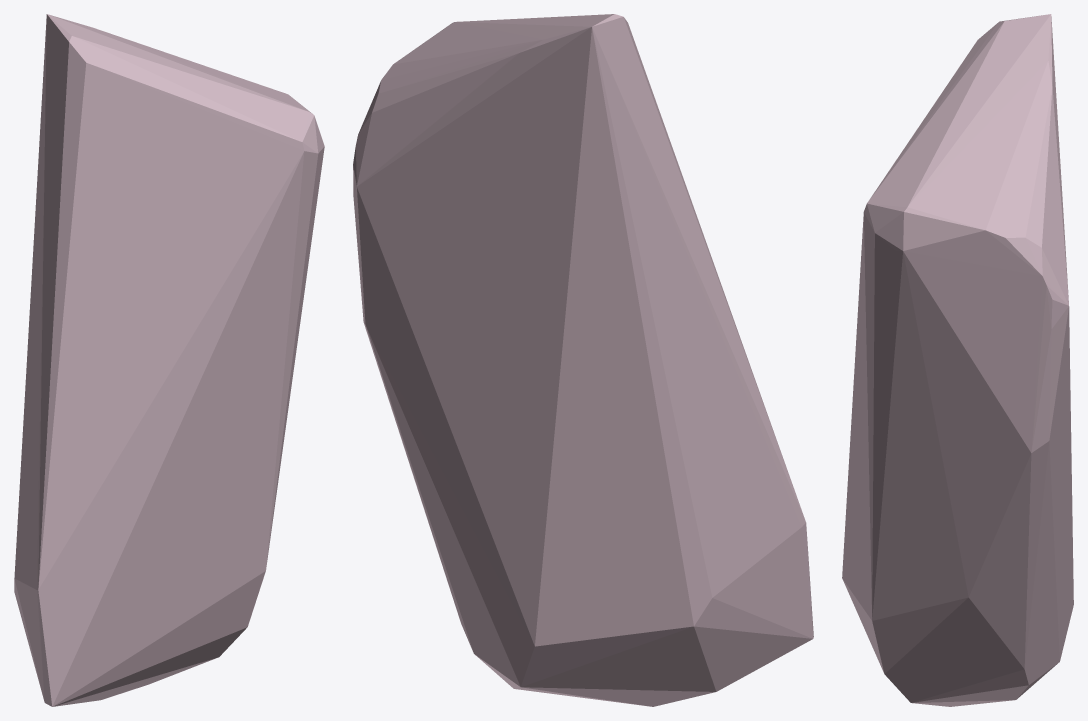
Rendered from exhaustSystem_exhaust_manifold_f01.glb.
3 renders of one model, left to right at view 1: azimuth 30°, elevation 25°; view 2: azimuth 150°, elevation 25°; view 3: azimuth 270°, elevation 25°, orthographic. The views are drawn at different scales.
Parts seen in each view (by area): view 1: geometry_0; view 2: geometry_0; view 3: geometry_0.
Boxes of the visible parts, x1,y1,x2,y2 form: geometry_0: (14,14,324,706); geometry_0: (353,14,813,706); geometry_0: (842,14,1073,706).
Size of the model in its own units: 0.2416 by 0.4773 by 0.1505.
